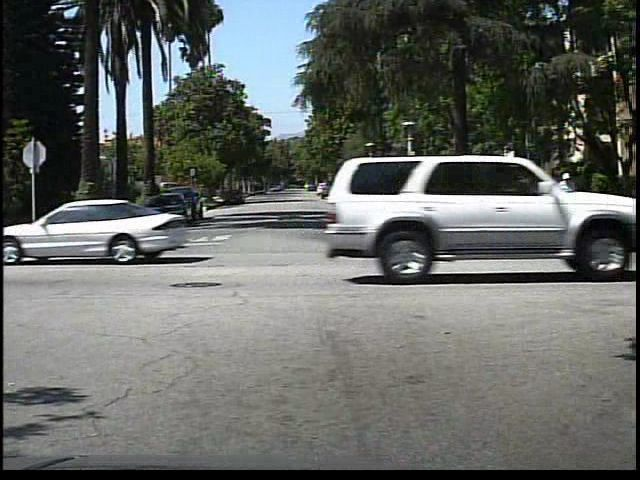person: (550, 167, 580, 197)
